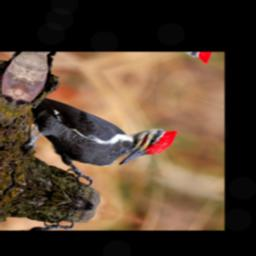Woodpecker: (7, 91, 179, 205)
